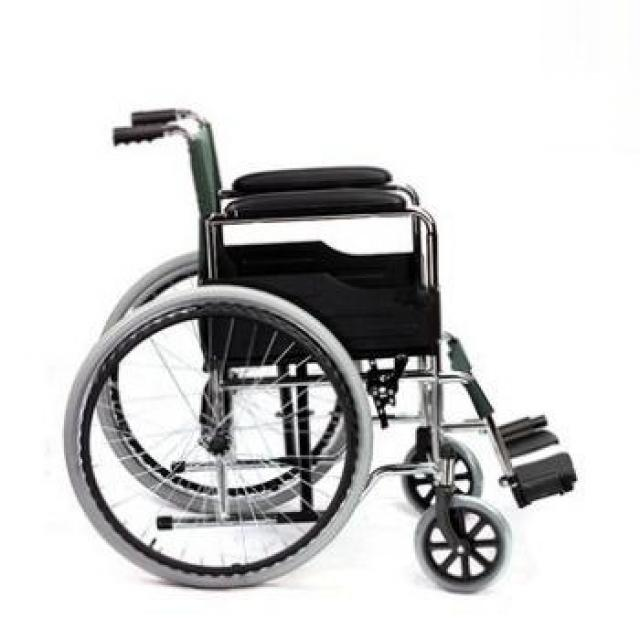wheelchair: (52, 88, 607, 611)
